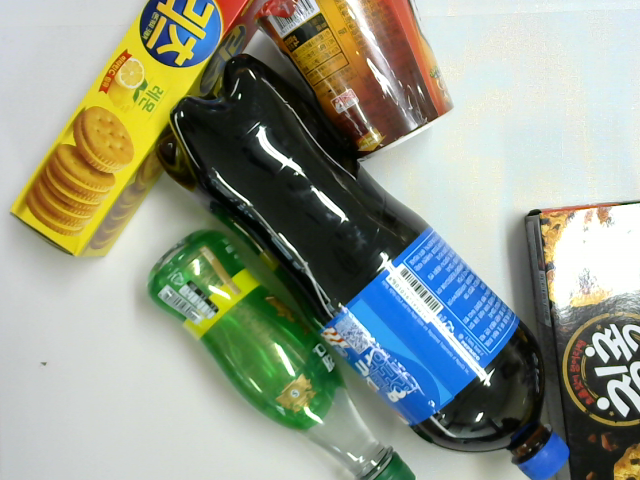Chicchok_Original_2400: (526, 199, 640, 478)
Ojjam: (254, 1, 455, 165)
Pepsi_Cola_1.5L: (157, 53, 570, 480)
Ritz_Remon_96g: (10, 1, 268, 265)
Seagram_Lemon_Carbonated_Water: (148, 227, 415, 480)
